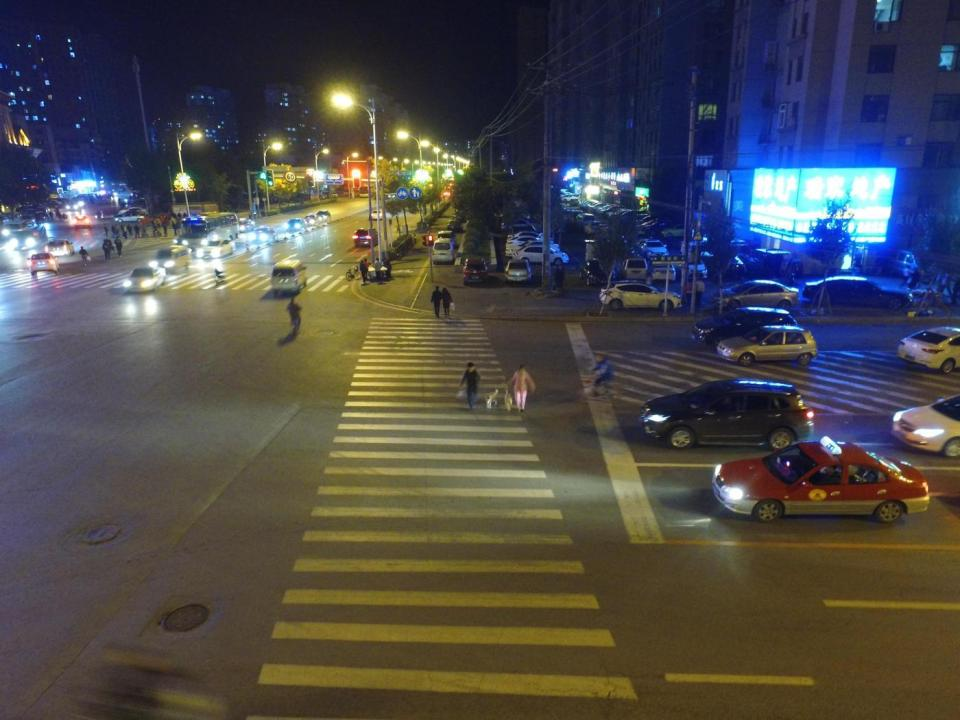bus: (180, 212, 240, 248), (360, 185, 370, 198)
car: (711, 436, 929, 524), (641, 380, 813, 452), (891, 392, 960, 459), (691, 306, 798, 346), (802, 276, 910, 312), (716, 326, 818, 364), (895, 325, 960, 375), (710, 280, 800, 311), (599, 280, 681, 311), (123, 266, 166, 294), (512, 245, 568, 265), (504, 239, 560, 257), (580, 259, 614, 285), (714, 252, 746, 278), (507, 230, 553, 248), (462, 257, 490, 285), (197, 238, 236, 258), (28, 252, 60, 275), (679, 254, 707, 280), (635, 238, 669, 259), (680, 240, 712, 262), (504, 259, 532, 284), (505, 236, 554, 250), (650, 257, 675, 281), (44, 240, 73, 256), (502, 219, 540, 231), (250, 226, 275, 244), (113, 210, 147, 223), (663, 223, 689, 238), (286, 219, 307, 232), (447, 220, 464, 233), (304, 213, 319, 227), (74, 216, 90, 229), (238, 219, 253, 232), (318, 211, 330, 222), (370, 210, 384, 219), (569, 199, 580, 206)
van: (889, 250, 937, 282), (272, 258, 305, 295), (156, 245, 189, 275), (621, 253, 647, 280), (432, 237, 455, 264), (12, 230, 40, 250), (353, 228, 381, 246), (4, 220, 28, 240), (437, 230, 456, 247), (560, 194, 581, 202)
